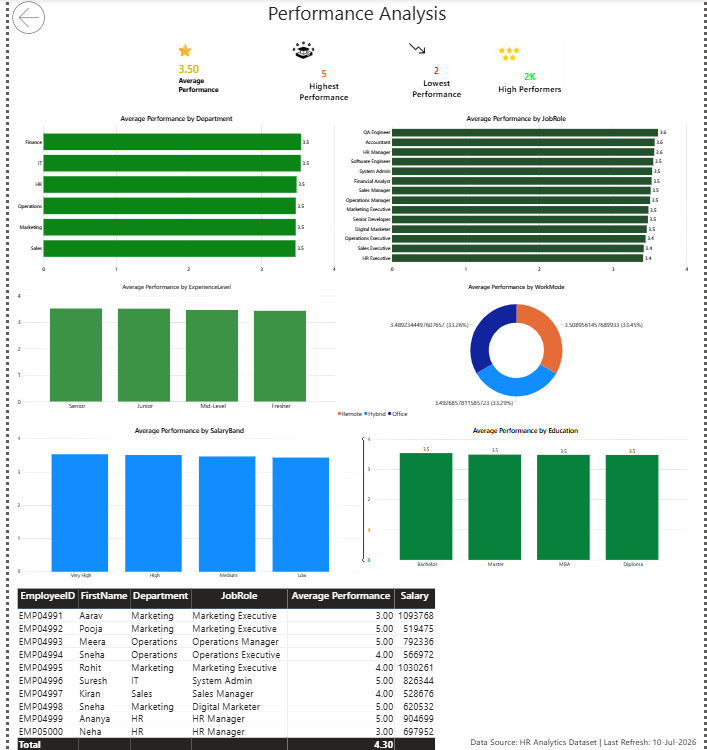

This screenshot's page, from the dashboard's own definition file:
{"tool":"powerbi","page":{"name":"Performance Analysis","canvas":[3500,3800],"ordinal":3},"visuals":[{"type":"textbox","box":[1116.3,0,1270.3,149.7],"z":0},{"type":"cardVisual","fields":{"Data":["Employees.Average Performance"]},"box":[821.6,184.3,346.4,346.4],"z":0,"group":"g1"},{"type":"group","id":"g1","title":"Group 1","box":[821.6,184.3,1988.4,350.7],"z":1000},{"type":"cardVisual","fields":{"Data":["Employees.Highest Performance"]},"box":[1399,197.1,376.4,337.9],"z":1000,"group":"g1"},{"type":"cardVisual","fields":{"Data":["Employees.Lowest Performance"]},"box":[1967.6,184.3,363.5,346],"z":2000,"group":"g1"},{"type":"clusteredBarChart","fields":{"Category":["Employees.Department"],"Y":["Employees.Average Performance"]},"box":[34.2,581.7,1612.4,812.6],"z":2000},{"type":"cardVisual","fields":{"Data":["Employees.High Performers"]},"box":[2429.4,184.3,380.6,346],"z":3000,"group":"g1"},{"type":"clusteredBarChart","fields":{"Category":["Employees.JobRole"],"Y":["Employees.Average Performance"]},"box":[1685.1,581.7,1740.7,812.6],"z":3000},{"type":"clusteredColumnChart","fields":{"Category":["Employees.ExperienceLevel"],"Y":["Employees.Average Performance"]},"box":[34.2,1437.1,1612.4,650.1],"z":4000},{"type":"donutChart","fields":{"Category":["Employees.WorkMode"],"Y":["Employees.Average Performance"]},"box":[1646.6,1437.1,1817.7,684.3],"z":5000},{"type":"clusteredColumnChart","fields":{"Category":["Employees.Education"],"Y":["Employees.Average Performance"]},"box":[1774.9,2151.3,1650.9,727.1],"z":6000},{"type":"columnChart","fields":{"Y":["Employees.Average Performance"],"Category":["Employees.SalaryBand"]},"box":[34.2,2151.3,1740.7,782.7],"z":7000},{"type":"tableEx","fields":{"Values":["Employees.EmployeeID","Employees.FirstName","Employees.Department","Employees.JobRole","Employees.Average Performance","Employees.Salary"]},"box":[34.2,2968.2,2117.1,829.7],"z":8000},{"type":"textbox","box":[2290.8,3708.3,1209.2,91.7],"z":8001},{"type":"actionButton","box":[0,0,218,197.4],"z":8002}]}

Visuals, with their boxes in screenshot pixels (x1, y1, x2, y2), scaled from the page's 3500x3800 canvas onto the 707x750 screenshot:
textbox: crop(225, 0, 482, 30)
cardVisual - Employees.Average Performance: crop(166, 36, 236, 105)
"Group 1" group: crop(166, 36, 568, 106)
cardVisual - Employees.Highest Performance: crop(283, 39, 359, 106)
cardVisual - Employees.Lowest Performance: crop(397, 36, 471, 105)
clusteredBarChart - Employees.Department x Employees.Average Performance: crop(7, 115, 333, 275)
cardVisual - Employees.High Performers: crop(491, 36, 568, 105)
clusteredBarChart - Employees.JobRole x Employees.Average Performance: crop(340, 115, 692, 275)
clusteredColumnChart - Employees.ExperienceLevel x Employees.Average Performance: crop(7, 284, 333, 412)
donutChart - Employees.WorkMode x Employees.Average Performance: crop(333, 284, 700, 419)
clusteredColumnChart - Employees.Education x Employees.Average Performance: crop(359, 425, 692, 568)
columnChart - Employees.Average Performance x Employees.SalaryBand: crop(7, 425, 359, 579)
tableEx - Employees.EmployeeID x Employees.FirstName: crop(7, 586, 435, 749)
textbox: crop(463, 732, 706, 749)
actionButton: crop(0, 0, 44, 39)
